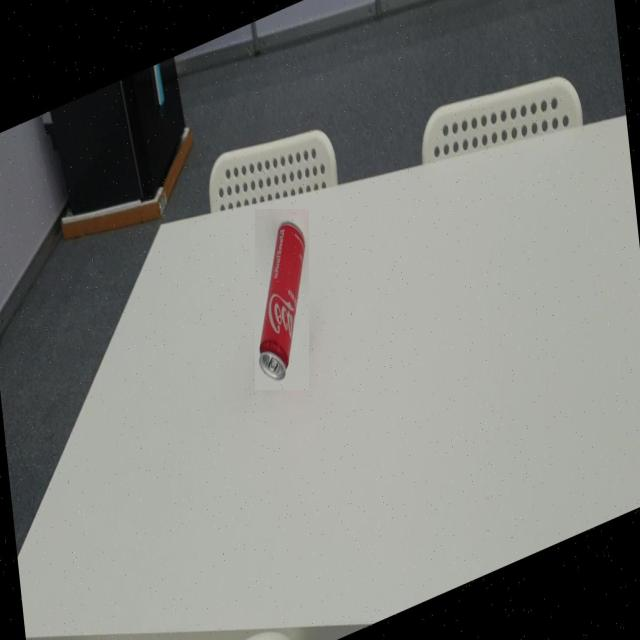coca-cola: (255, 209, 309, 390)
